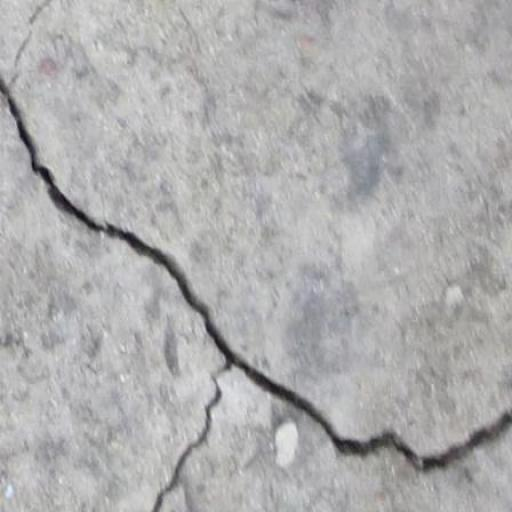spalling: (0, 82, 510, 507)
